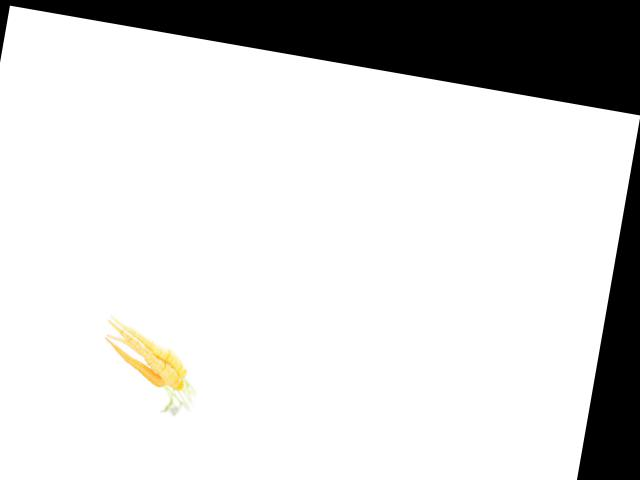carrot: (100, 313, 199, 379)
